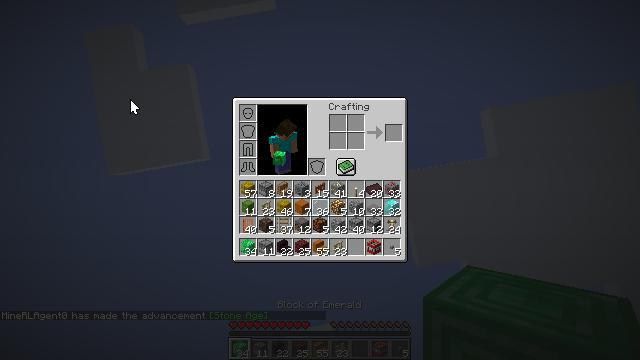cursor: (99, 130, 115, 140)
